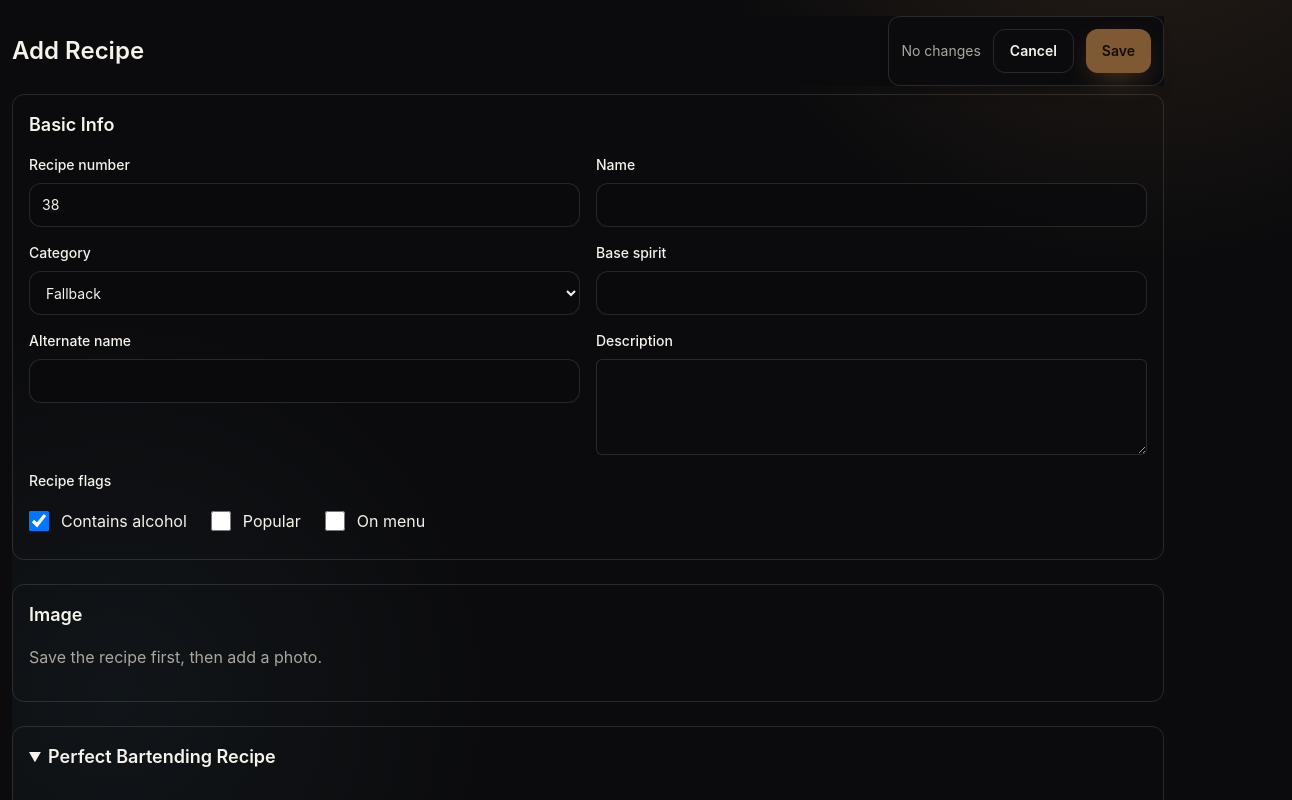
Test: recipe editor › shows validation summary and focuses first invalid field
Replace the text in the number field labelled "Recipe number" with "0" at (304, 205), box [29,183,580,227]
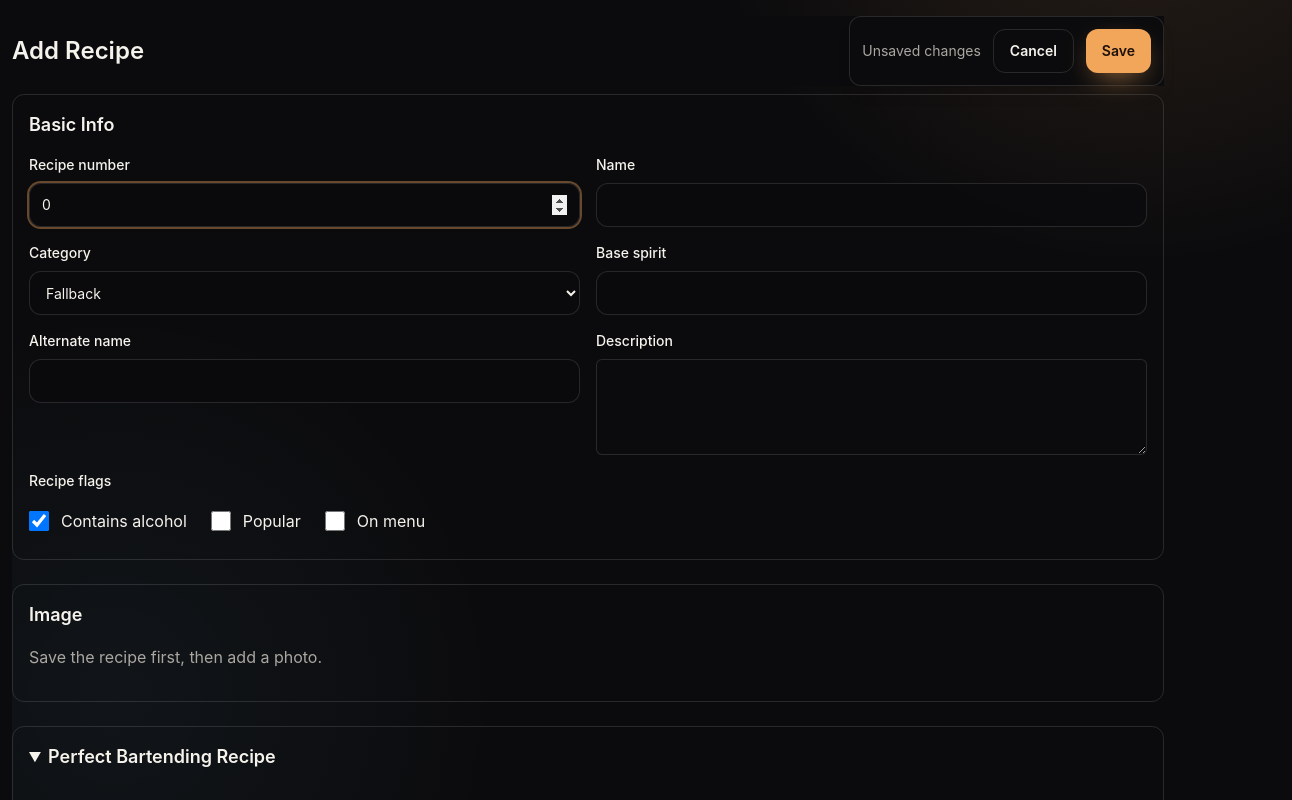
Click the button "Save" at (1118, 51), box [1086,29,1151,73]
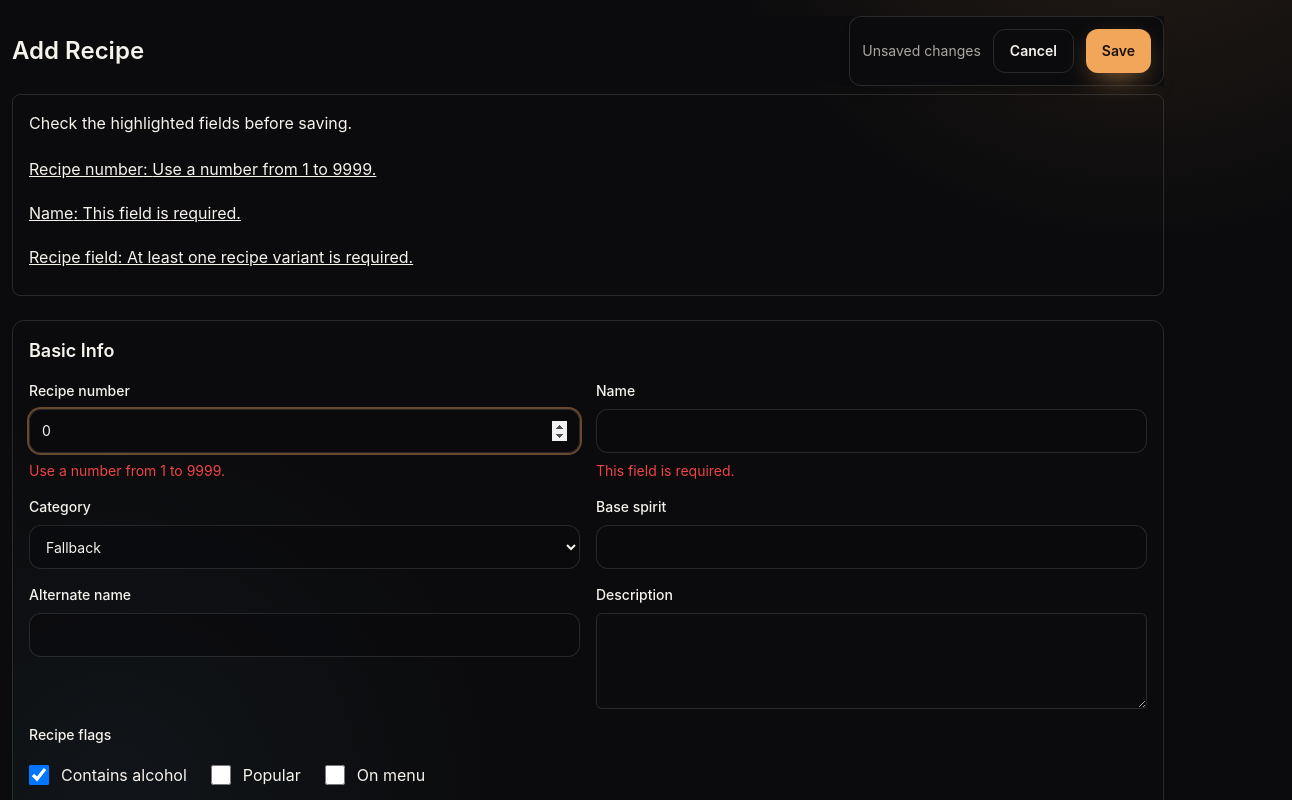
Now the 2nd message shows "Check the highlighted fields", box [29,113,352,133]
